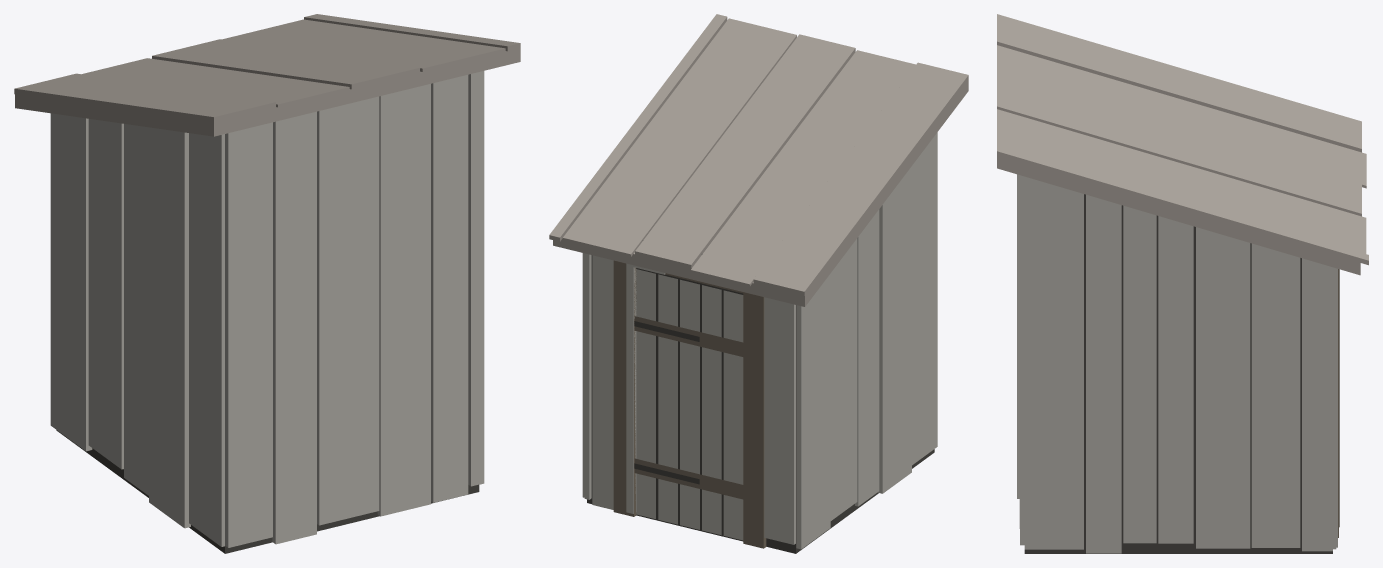
File: recon_1835_blk_washington_clark_a3_03__inferred_1835.glb
3 views of the same model, side by side, from view 1: azimuth 30°, elevation 25°; view 2: azimuth 150°, elevation 25°; view 3: azimuth 270°, elevation 25° (orthographic). The views are drawn at different scales.
Visible parts, largest first — view 1: recon_1835_blk_washington_clark_a3_03__inferred_1835; view 2: recon_1835_blk_washington_clark_a3_03__inferred_1835; view 3: recon_1835_blk_washington_clark_a3_03__inferred_1835.
Part boxes in pixels (left/top/right/bottom): recon_1835_blk_washington_clark_a3_03__inferred_1835: left=14, top=14, right=520, bottom=553; recon_1835_blk_washington_clark_a3_03__inferred_1835: left=549, top=14, right=968, bottom=553; recon_1835_blk_washington_clark_a3_03__inferred_1835: left=997, top=14, right=1368, bottom=553.
Size of the model in its own units: 1.98 by 2.81 by 2.28.
